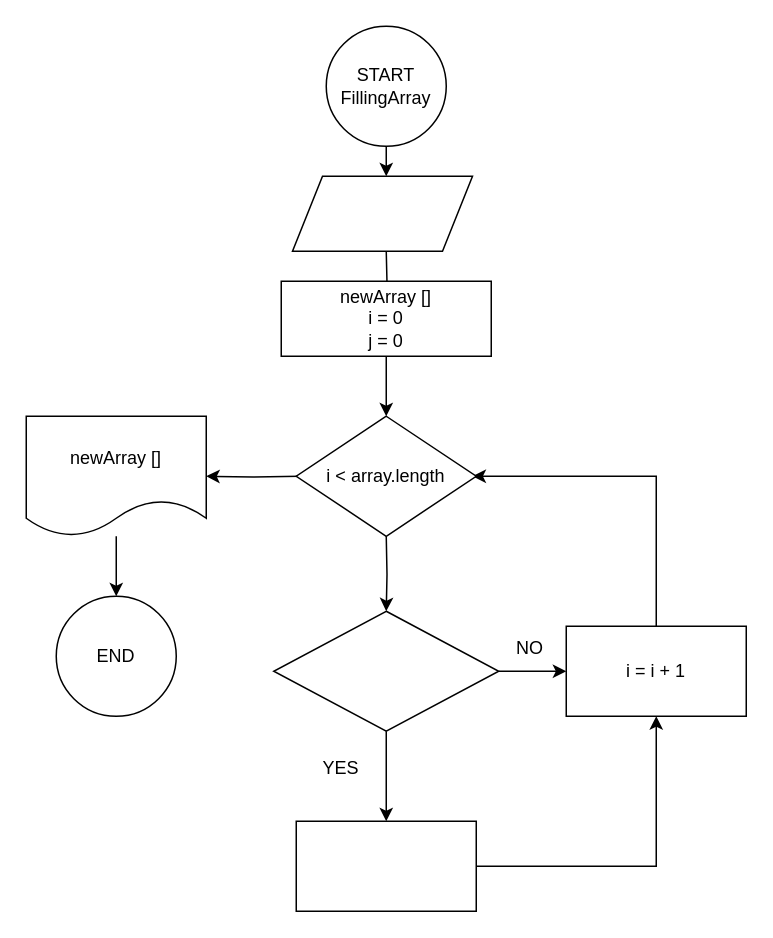
The diagram is 773 pixels wide and 938 high, and some of its shapes have lost their labels. The box of each missing label's shape, as (x1, y1, x2, y2) in pixels:
array [] wordCount wordLenght: (291, 175, 472, 251)
array[i].legth <= wordLenght: (272, 610, 499, 731)
newArray[j] = array[i] j = j + 1: (295, 820, 476, 911)
